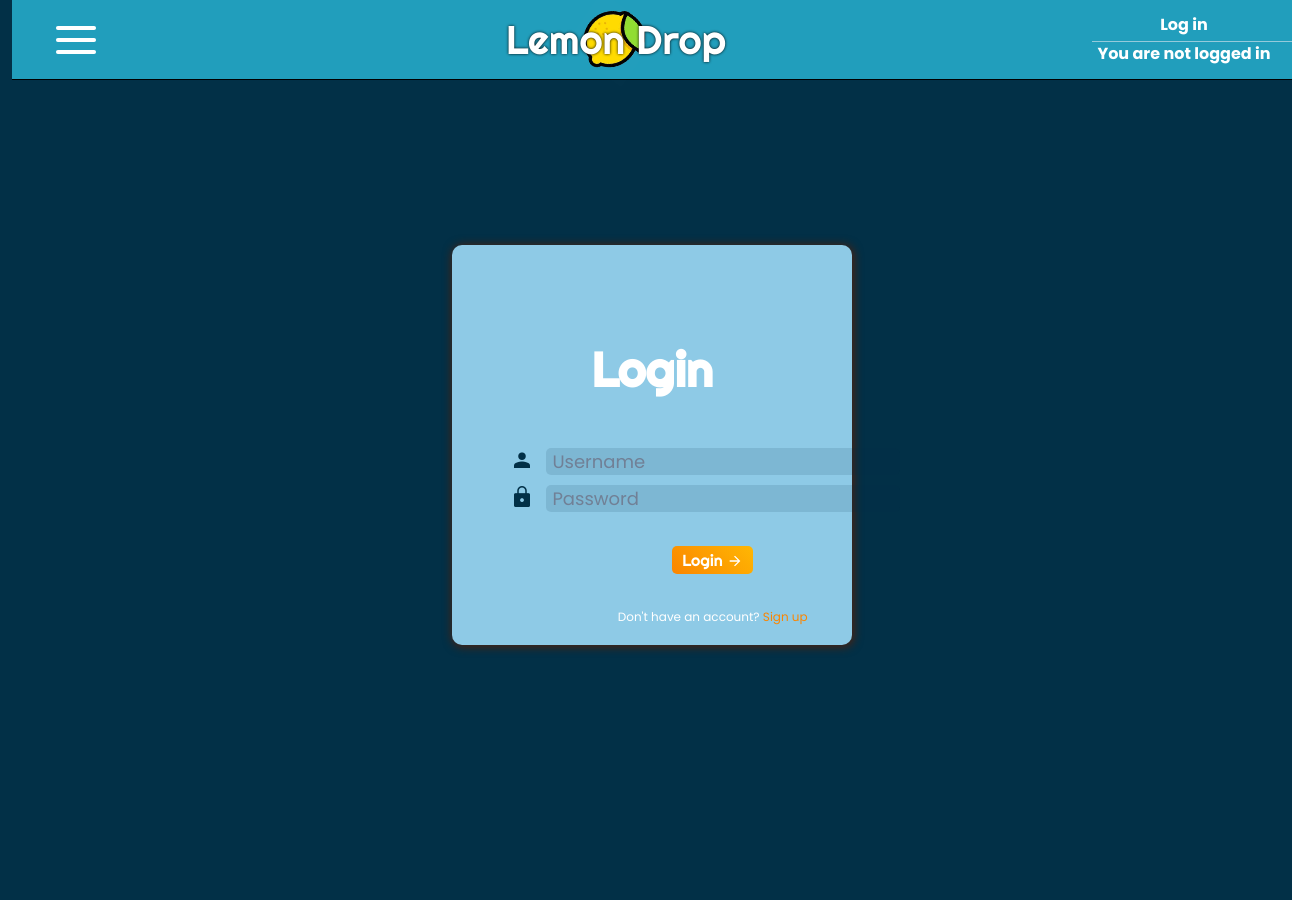
Test: clicking login without a username and password gives a warning toast
This screenshot has width=1292, height=900.
Click the button.
click(713, 560)  # box [672,546,753,574]
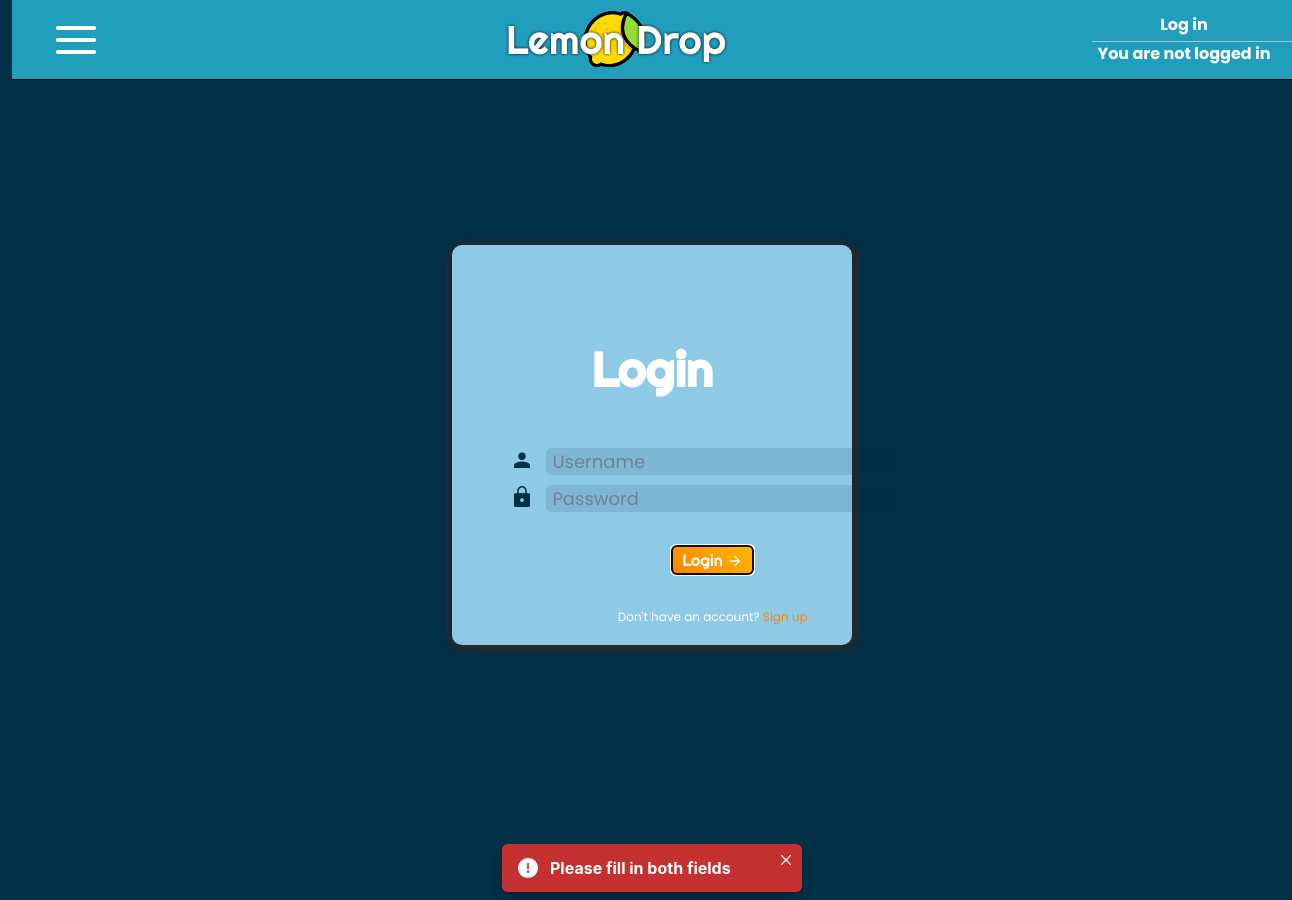
expect the 1st text "Please fill in both fields" is shown: met, box [550,856,762,880]
